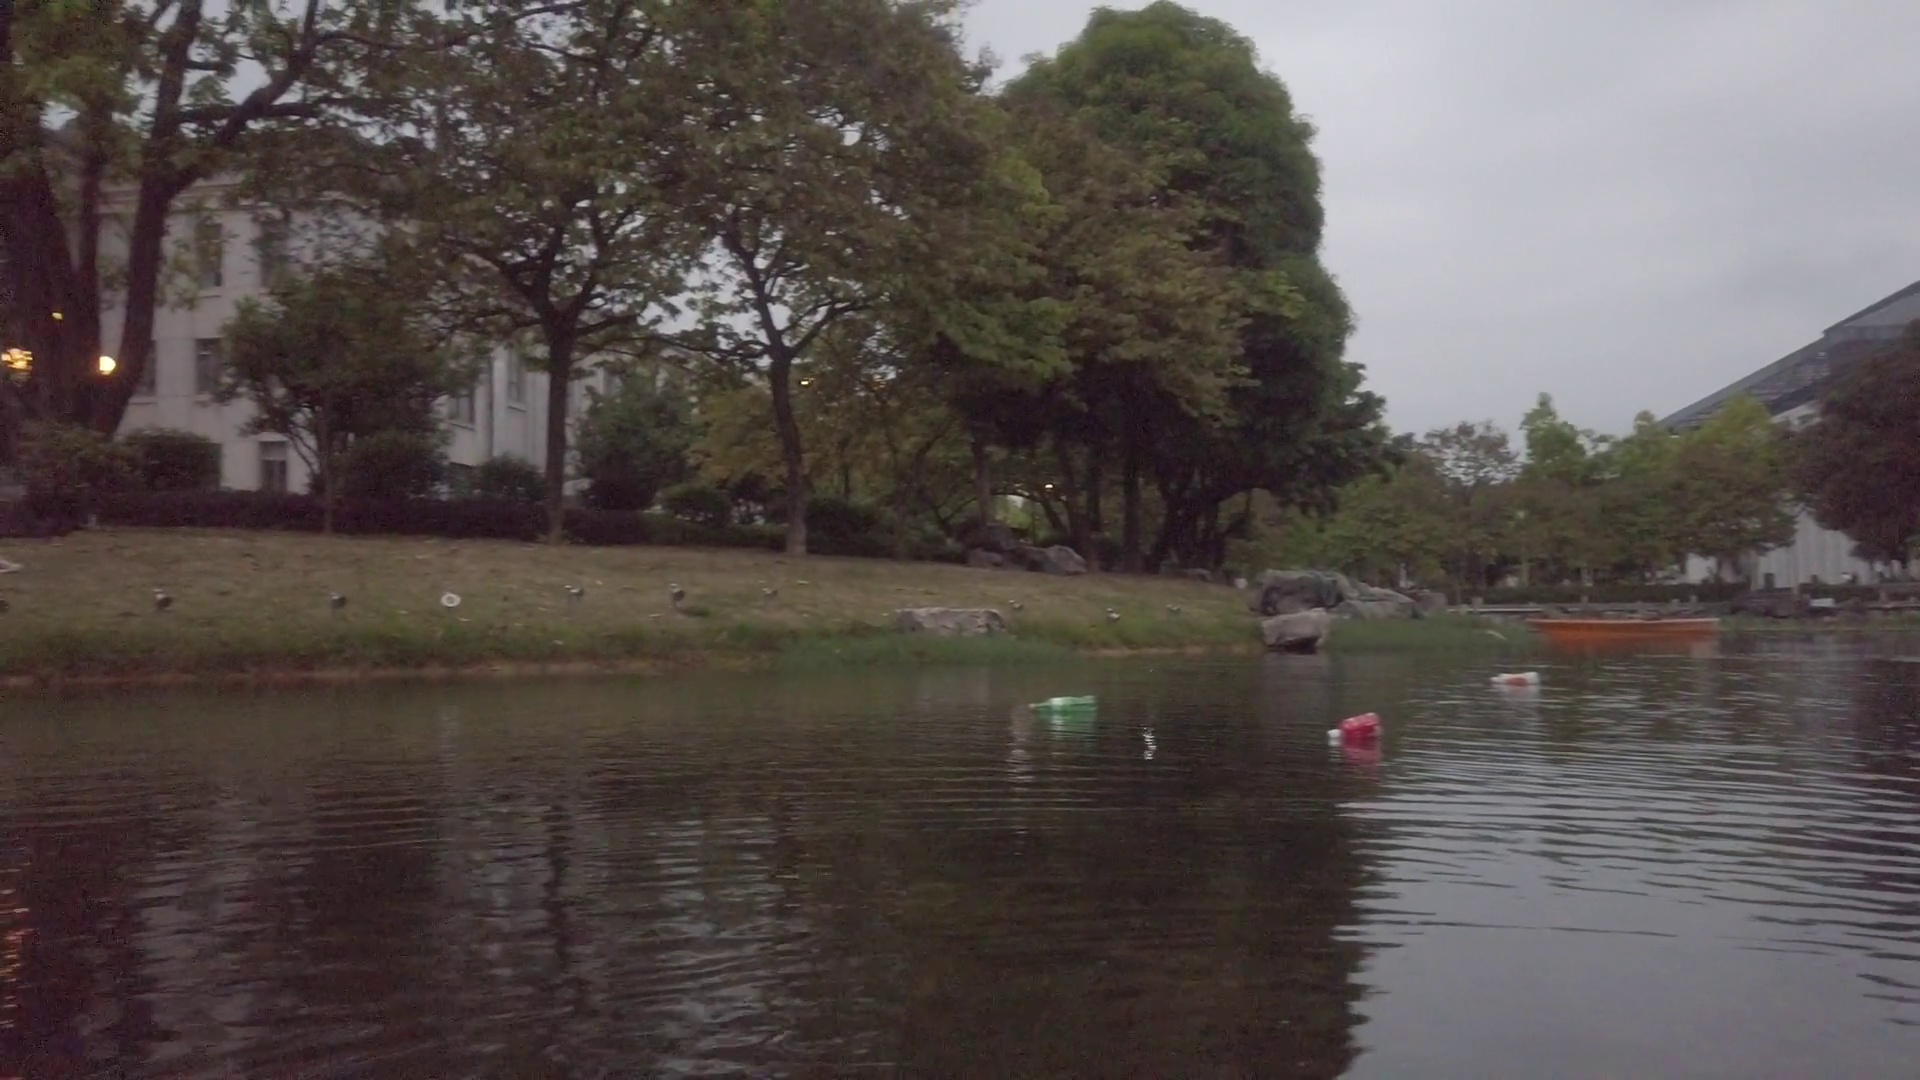bottle: (1327, 709, 1383, 742), (1029, 694, 1098, 713), (1487, 669, 1543, 687)
